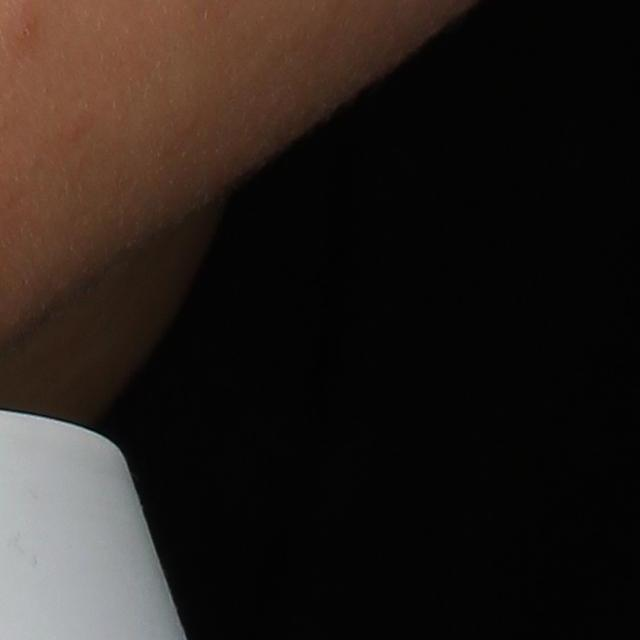papule: (12, 16, 37, 42)
